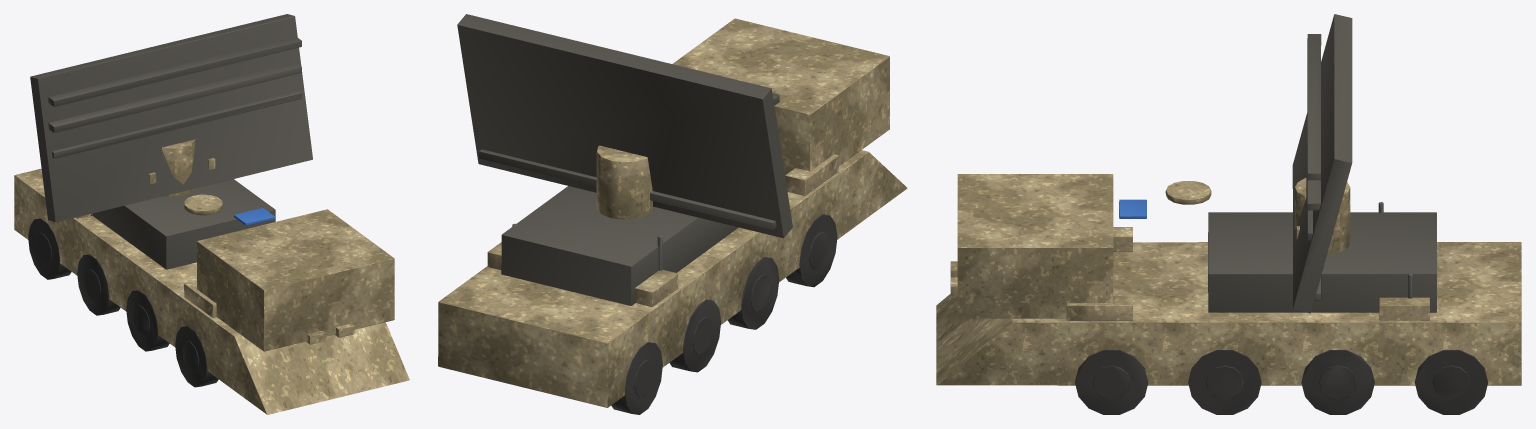
Rendered from rad_e4_us_search_LOD1.glb.
The picture shows the model from 3 angles, left to right: view 1: azimuth 30°, elevation 25°; view 2: azimuth 150°, elevation 25°; view 3: azimuth 270°, elevation 25°; orthographic projection. The views are drawn at different scales.
Parts seen in each view (by area): view 1: rad_e4_us_search_LOD1_deck, rad_e4_us_search_LOD1_body, rad_e4_us_search_LOD1_track, rad_e4_us_search_LOD1_team; view 2: rad_e4_us_search_LOD1_deck, rad_e4_us_search_LOD1_body, rad_e4_us_search_LOD1_track; view 3: rad_e4_us_search_LOD1_body, rad_e4_us_search_LOD1_deck, rad_e4_us_search_LOD1_track, rad_e4_us_search_LOD1_team.
Part boxes in pixels (x1,y1,x2,y2): rad_e4_us_search_LOD1_deck: (30, 14, 312, 269); rad_e4_us_search_LOD1_body: (14, 139, 409, 414); rad_e4_us_search_LOD1_track: (28, 218, 218, 387); rad_e4_us_search_LOD1_team: (234, 208, 274, 225); rad_e4_us_search_LOD1_deck: (457, 14, 792, 305); rad_e4_us_search_LOD1_body: (438, 18, 907, 407); rad_e4_us_search_LOD1_track: (611, 214, 837, 414); rad_e4_us_search_LOD1_body: (936, 174, 1521, 385); rad_e4_us_search_LOD1_deck: (1208, 14, 1436, 313); rad_e4_us_search_LOD1_track: (1075, 350, 1488, 414); rad_e4_us_search_LOD1_team: (1119, 199, 1146, 218).
Bounding box in the file's own units: 5.39 × 4.99 × 9.19.
Materials: 5 (1 with a texture image).
